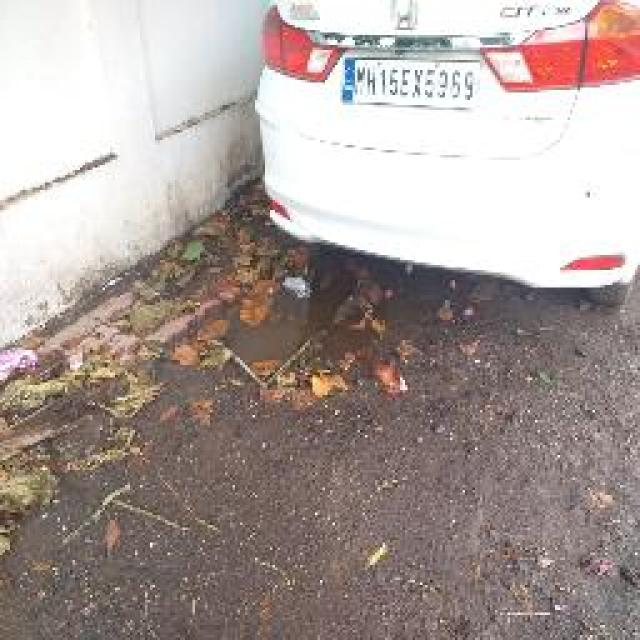stagnation: (212, 287, 416, 380)
